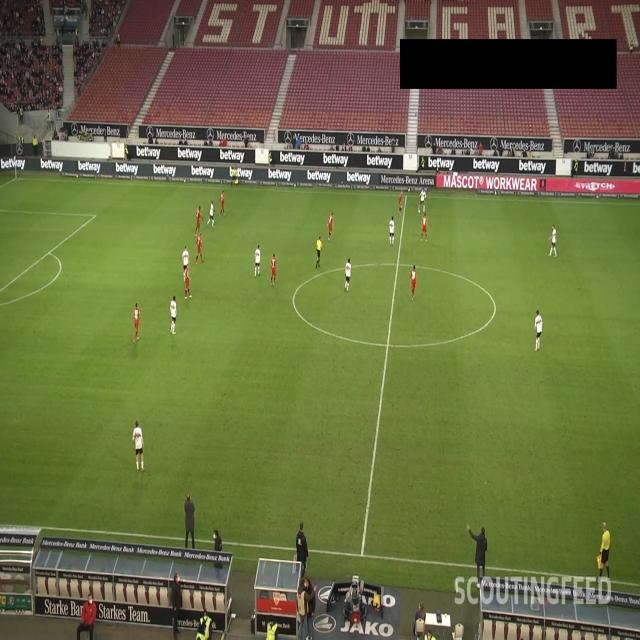ball: (418, 208, 421, 214)
